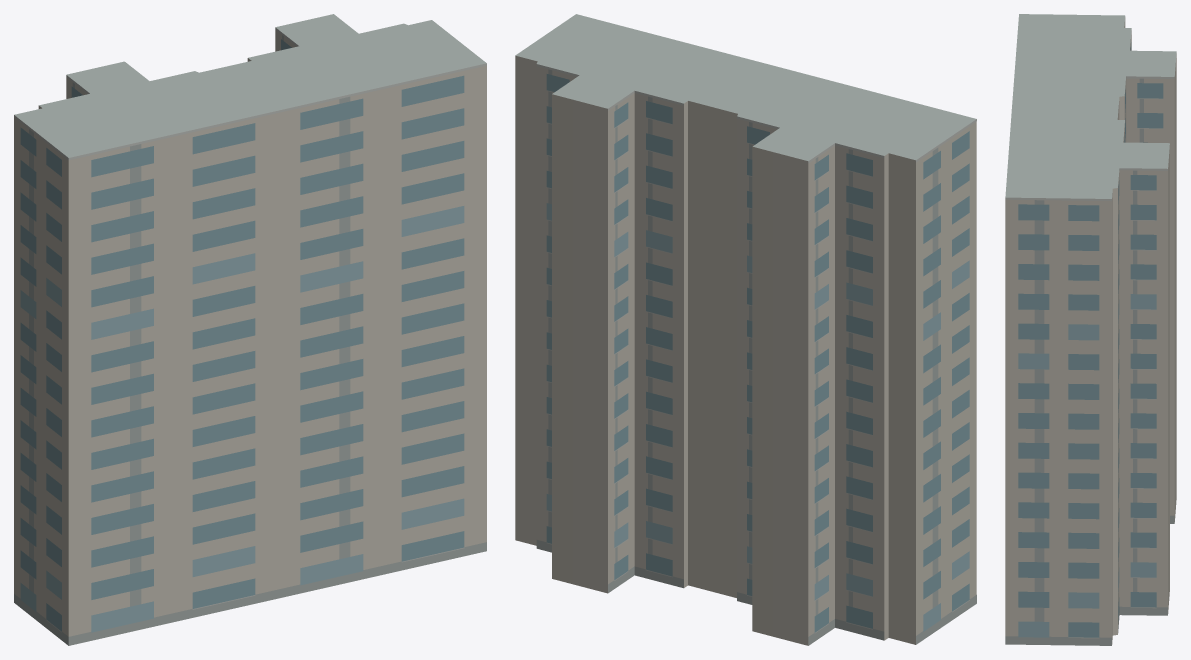
File: residential-7a55b49b-ee1b-4716-b2da-1f0935f0d910.glb
3 views of the same model, side by side, from view 1: azimuth 30°, elevation 25°; view 2: azimuth 150°, elevation 25°; view 3: azimuth 270°, elevation 25° (orthographic). The views are drawn at different scales.
Parts seen in each view (by area): view 1: residential-7a55b49b-ee1b-4716-b2da-1f0935f0d910.tmp; view 2: residential-7a55b49b-ee1b-4716-b2da-1f0935f0d910.tmp; view 3: residential-7a55b49b-ee1b-4716-b2da-1f0935f0d910.tmp.
Part boxes in pixels (x1,y1,x2,y2): residential-7a55b49b-ee1b-4716-b2da-1f0935f0d910.tmp: (14,14,486,645); residential-7a55b49b-ee1b-4716-b2da-1f0935f0d910.tmp: (515,14,976,645); residential-7a55b49b-ee1b-4716-b2da-1f0935f0d910.tmp: (1005,14,1176,645).
Size of the model in its own units: 45.29 by 51 by 17.72.
